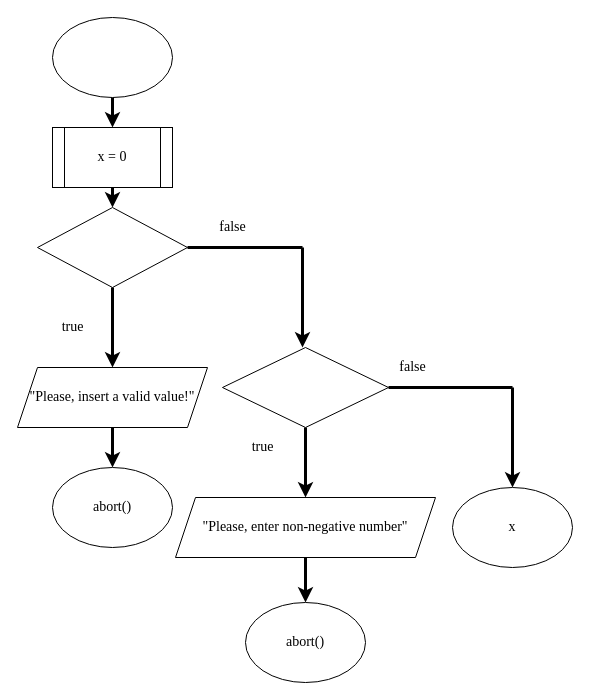
Some shapes in this 590 by 700 pixel diagram are drawn without their labels. The shapes that lost their labels are listed below. From the top down, each one's centre as x and y in pixels, then its label:
point 112,57: Начало
point 112,247: scanf("%lf", &x) != 1
point 305,387: pozitive_num(x) == 1
